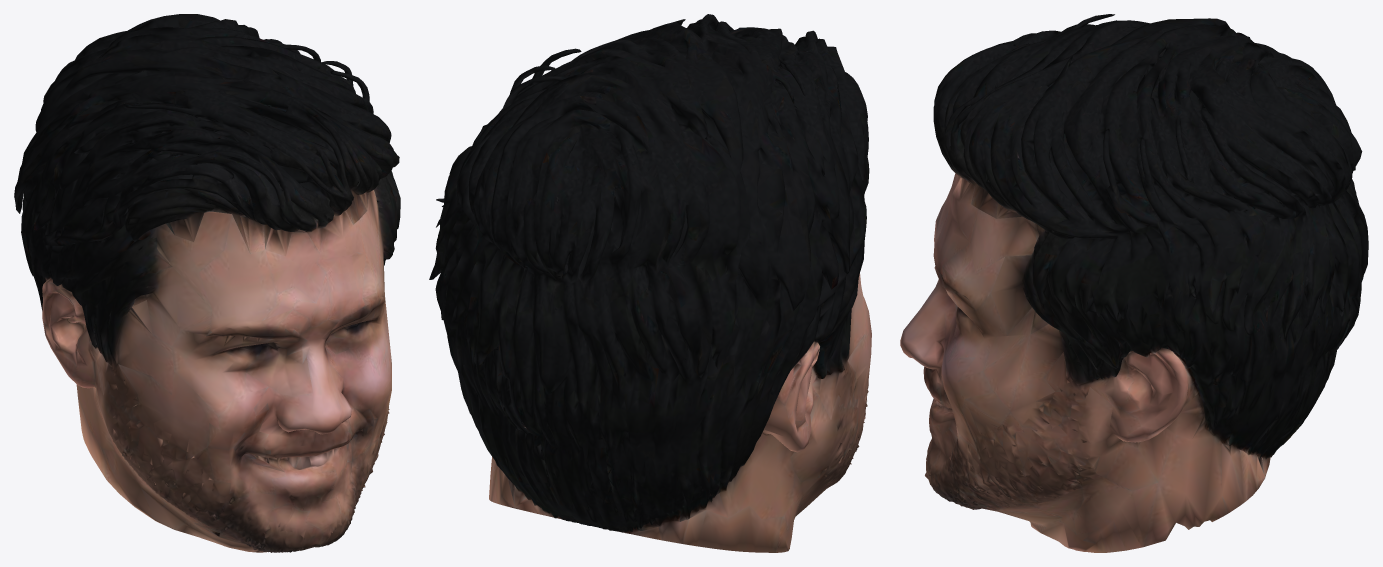
File: head_darren.glb
3 views of the same model, side by side, from view 1: azimuth 30°, elevation 25°; view 2: azimuth 150°, elevation 25°; view 3: azimuth 270°, elevation 25° (orthographic). The views are drawn at different scales.
Visible parts, largest first — view 1: Mesh_0; view 2: Mesh_0; view 3: Mesh_0.
Part boxes in pixels (x1,y1,x2,y2): Mesh_0: (14, 14, 400, 552); Mesh_0: (429, 14, 871, 552); Mesh_0: (900, 14, 1368, 552).
Size of the model in its own units: 0.7927 by 1.02 by 0.8957.
Materials: 1 (1 with a texture image).
